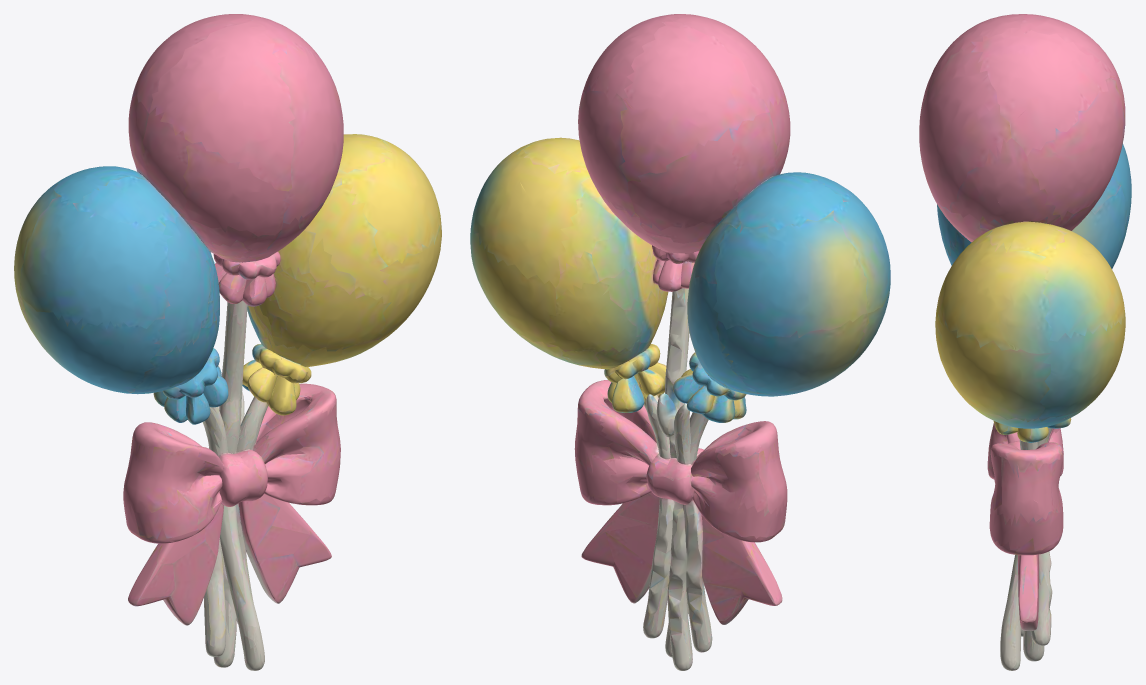
The picture shows the model from 3 angles, left to right: view 1: azimuth 30°, elevation 25°; view 2: azimuth 150°, elevation 25°; view 3: azimuth 270°, elevation 25°; orthographic projection.
Parts seen in each view (by area): view 1: output_unwrapped; view 2: output_unwrapped; view 3: output_unwrapped.
Part boxes in pixels (left/top/right/bottom): output_unwrapped: left=14, top=14, right=441, bottom=670; output_unwrapped: left=470, top=14, right=890, bottom=670; output_unwrapped: left=919, top=14, right=1131, bottom=670.
Size of the model in its own units: 1.24 by 1.9 by 0.5728.
1 material, 1 textured.
